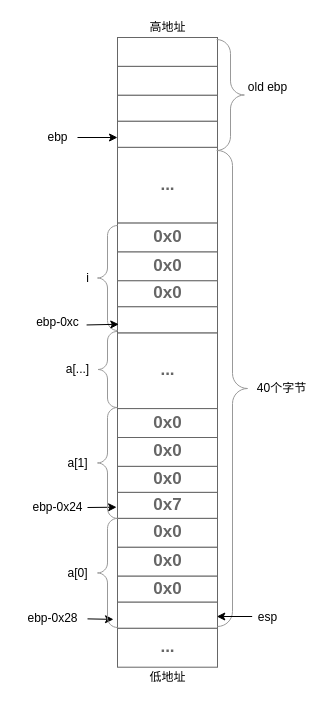
Some shapes in this 328 by 704 pixel diagram are drawn without their labels. Here are the shapes that lost their labels. From the top down, the box of each, then its label:
(116, 306, 218, 333): 0x1
(116, 601, 218, 628): 0x6
